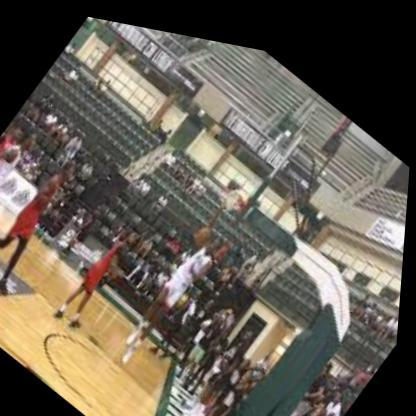basketball: (194, 211, 218, 242)
rim: (223, 175, 251, 205)
